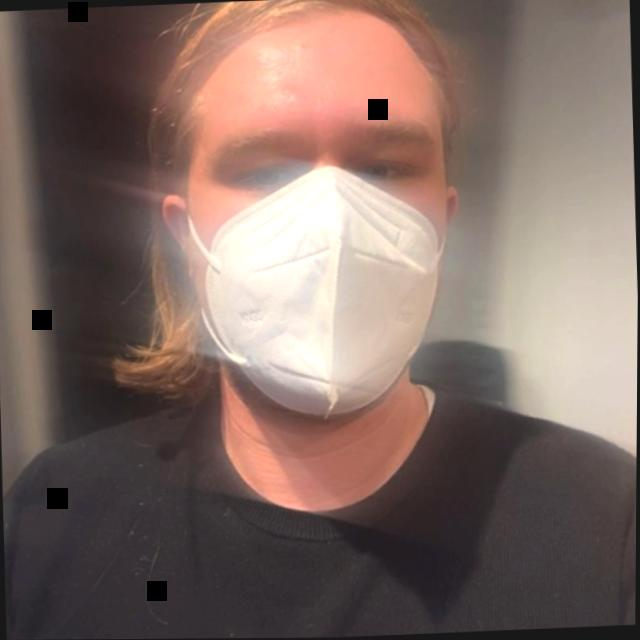Mask: (112, 0, 489, 423)
